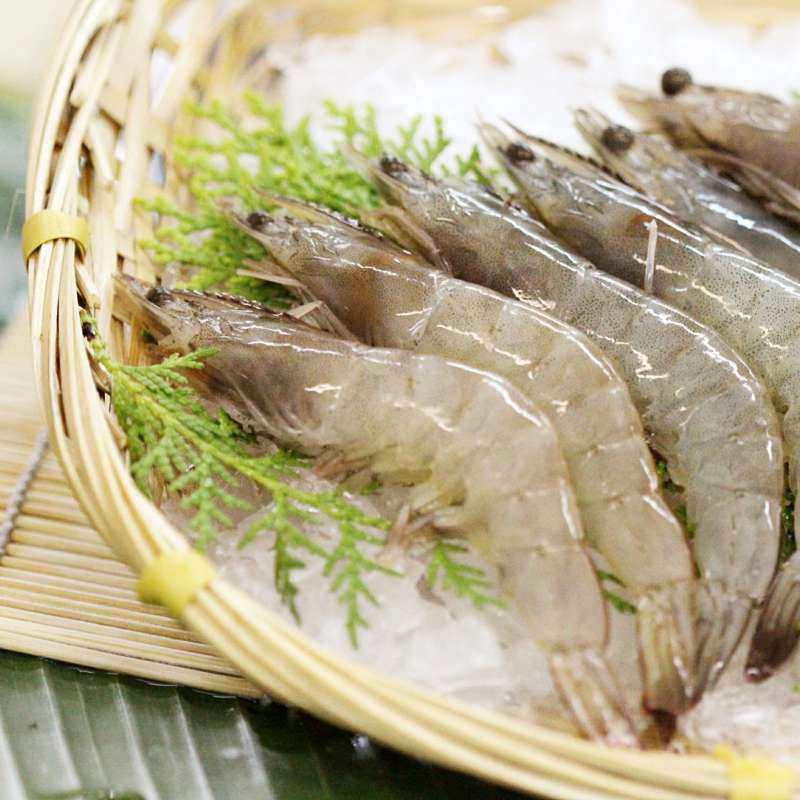White Prawn: (148, 292, 600, 727), (498, 133, 795, 671)
